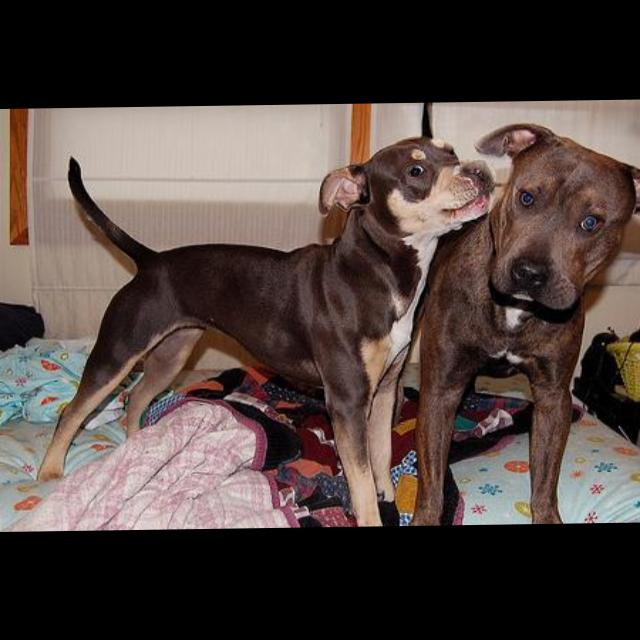amstaff: (36, 135, 493, 533), (397, 122, 640, 528)
